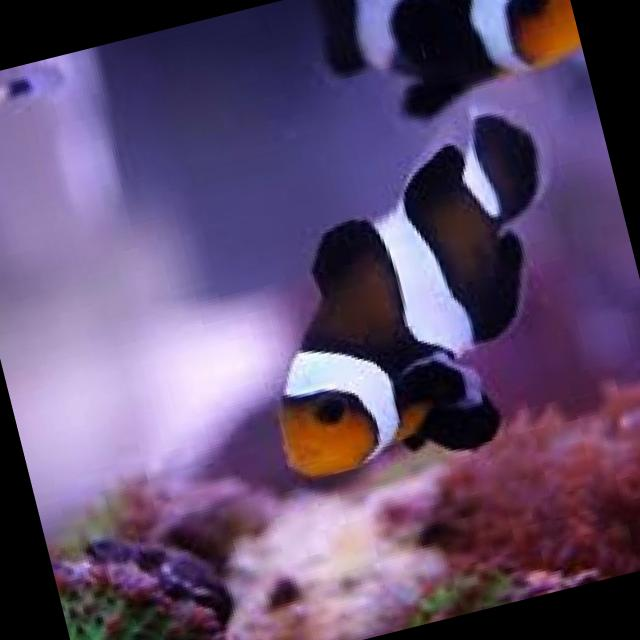ClownFish: (213, 96, 614, 494), (316, 0, 589, 136)
